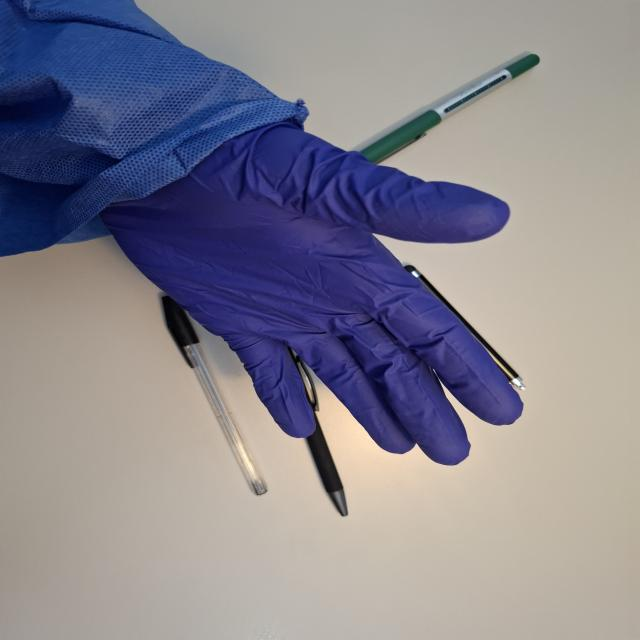glove_on: (84, 106, 528, 468)
